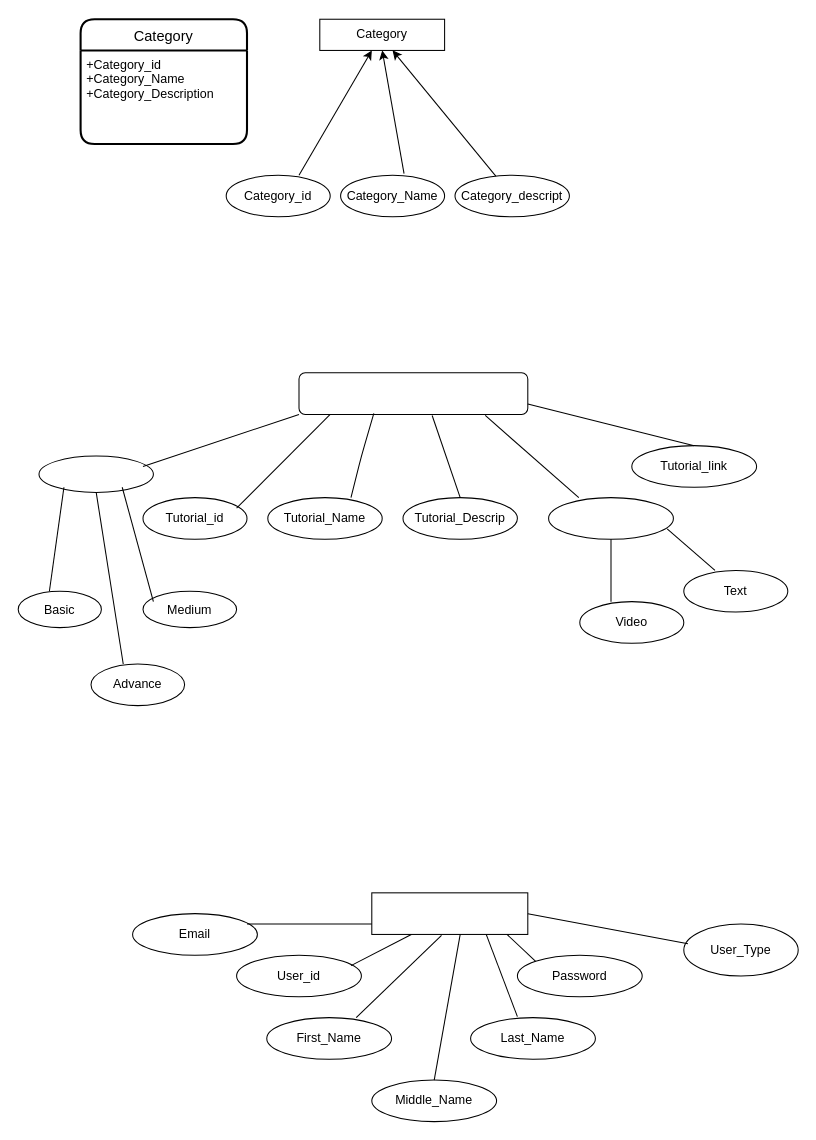
Some shapes in this 816 by 1140 pixel diagram are drawn without their labels. The shapes that lost their labels are listed below. From the top down, each one's centre as x and y in pixels, then its label:
(413,393): Tutorial
(95,473): Tutorial_level
(610,518): Tutorial_Type
(449,913): Users
